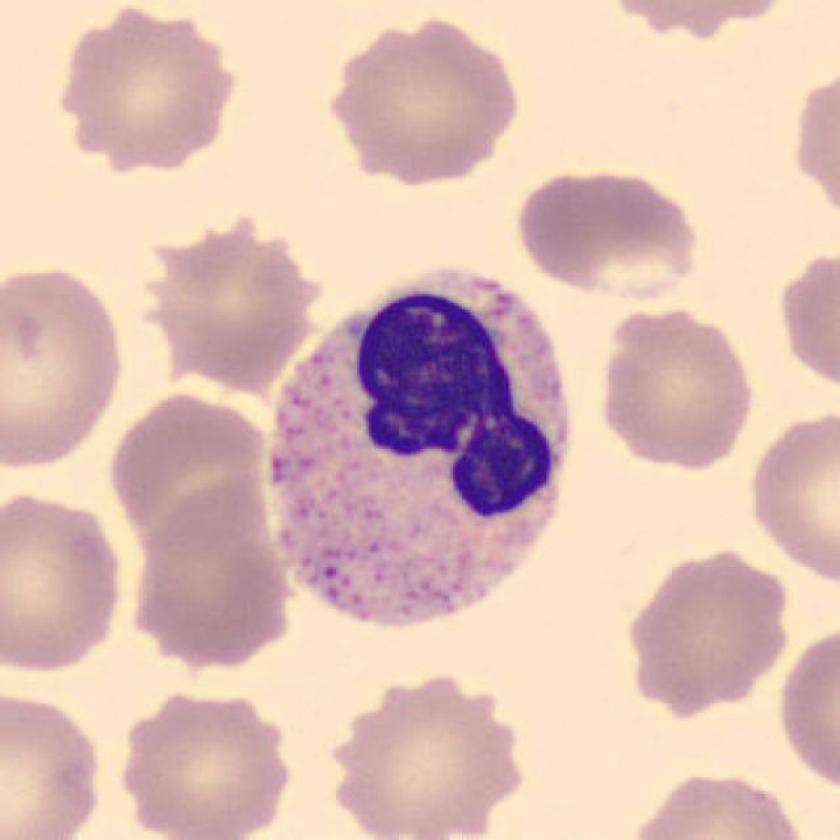neutrophil: (274, 269, 571, 623)
